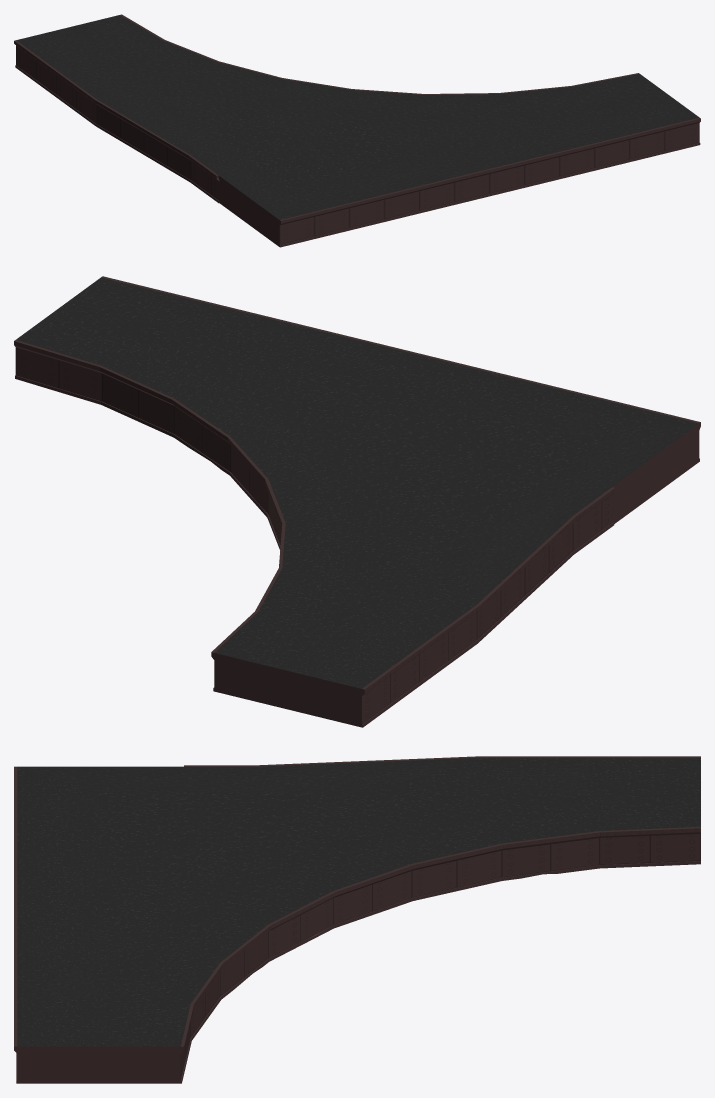
The model's file is SW_ENV_EL_TrackBase_Junction_90Deg.fbx.
3 renders of one model, top to bottom at view 1: azimuth 30°, elevation 25°; view 2: azimuth 150°, elevation 25°; view 3: azimuth 270°, elevation 25°, orthographic. The views are drawn at different scales.
Visible parts, largest first — view 1: SW_ENV_EL_TrackBase_Junction_90Deg; view 2: SW_ENV_EL_TrackBase_Junction_90Deg; view 3: SW_ENV_EL_TrackBase_Junction_90Deg.
Part boxes in pixels (bbox=[...]): SW_ENV_EL_TrackBase_Junction_90Deg: bbox=[14, 14, 700, 247]; SW_ENV_EL_TrackBase_Junction_90Deg: bbox=[14, 276, 700, 727]; SW_ENV_EL_TrackBase_Junction_90Deg: bbox=[14, 756, 700, 1083].
Bounding box in the file's own units: 3110 × 185 × 3110.
